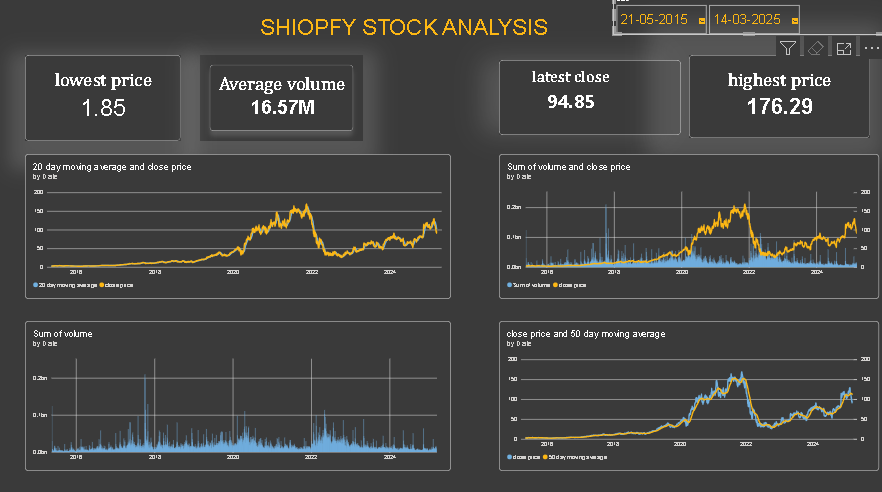

What the dashboard file says about the page in this screenshot:
{"tool":"powerbi","page":{"name":"Page 1","canvas":[1920,1080],"ordinal":0},"visuals":[{"type":"clusteredColumnChart","fields":{"Category":["Dim_Date.Date"],"Y":["Sum(Shopify data.volume)"]},"box":[62.6,704.2,920.2,324],"z":0},{"type":"cardVisual","fields":{"Data":["Dim_Date.latest close"]},"box":[1086.5,140.4,393.1,162],"z":1000},{"type":"lineChart","fields":{"Category":["Dim_Date.Date"],"Y":["Dim_Date.close price"],"Y2":["Dim_Date.50 day moving average"]},"box":[1086.5,704.2,820.8,324],"z":2000},{"type":"cardVisual","fields":{"Data":["Dim_Date.lowest price"]},"box":[62.6,129.6,337,185.8],"z":3000},{"type":"cardVisual","fields":{"Data":["Dim_Date.highest price"]},"box":[1496.9,129.6,391,179.3],"z":4000},{"type":"slicer","fields":{"Values":["Dim_Date.Date"]},"box":[1332.7,0,587.5,86.4],"z":5000},{"type":"cardVisual","fields":{"Data":["Dim_Date.Average volume"]},"box":[440.6,129.6,352.1,185.8],"z":6000},{"type":"lineClusteredColumnComboChart","fields":{"Category":["Dim_Date.Date"],"Y":["Sum(Shopify data.volume)"],"Y2":["Dim_Date.close price"]},"box":[1086.5,343.4,820.8,313.2],"z":7000},{"type":"lineChart","fields":{"Category":["Dim_Date.Date"],"Y":["Dim_Date.20 day moving average","Dim_Date.close price"]},"box":[62.6,343.4,920.2,313.2],"z":7001},{"type":"textbox","box":[518.4,41,725.8,88.6],"z":7002}]}

Visuals, with their boxes on the page's 1920x1080 design canvas (x1, y1, x2, y2). These are canvas units, not pixel positions in the 882x492 screenshot, which may show the page scaled, cropped or inside an application window:
clusteredColumnChart - Dim_Date.Date x Sum(Shopify data.volume): box=[63, 704, 983, 1028]
cardVisual - Dim_Date.latest close: box=[1086, 140, 1480, 302]
lineChart - Dim_Date.Date x Dim_Date.close price: box=[1086, 704, 1907, 1028]
cardVisual - Dim_Date.lowest price: box=[63, 130, 400, 315]
cardVisual - Dim_Date.highest price: box=[1497, 130, 1888, 309]
slicer - Dim_Date.Date: box=[1333, 0, 1920, 86]
cardVisual - Dim_Date.Average volume: box=[441, 130, 793, 315]
lineClusteredColumnComboChart - Dim_Date.Date x Sum(Shopify data.volume): box=[1086, 343, 1907, 657]
lineChart - Dim_Date.Date x Dim_Date.20 day moving average: box=[63, 343, 983, 657]
textbox: box=[518, 41, 1244, 130]
